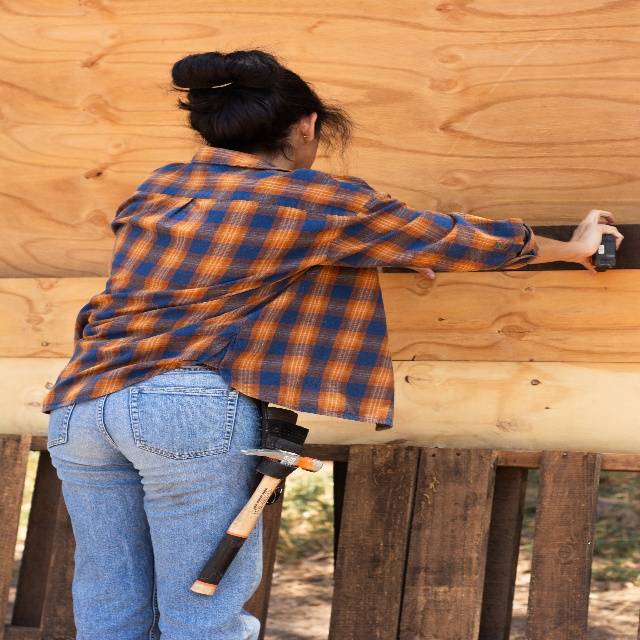Sin_guantes: (568, 209, 624, 275)
